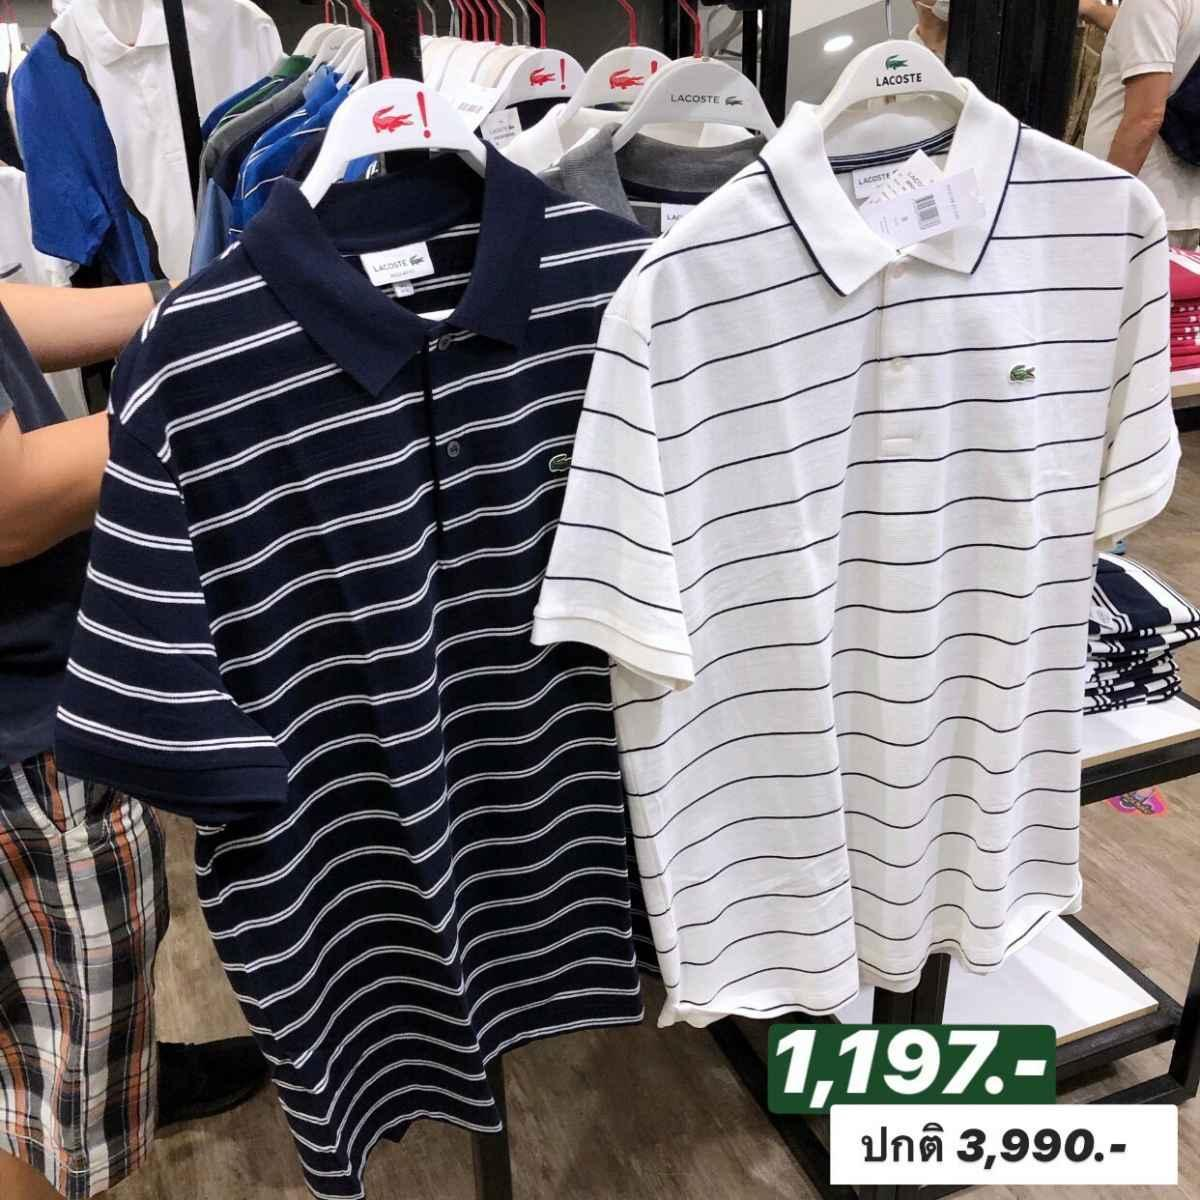Tshirt: (570, 115, 1171, 997), (76, 186, 623, 1112)
